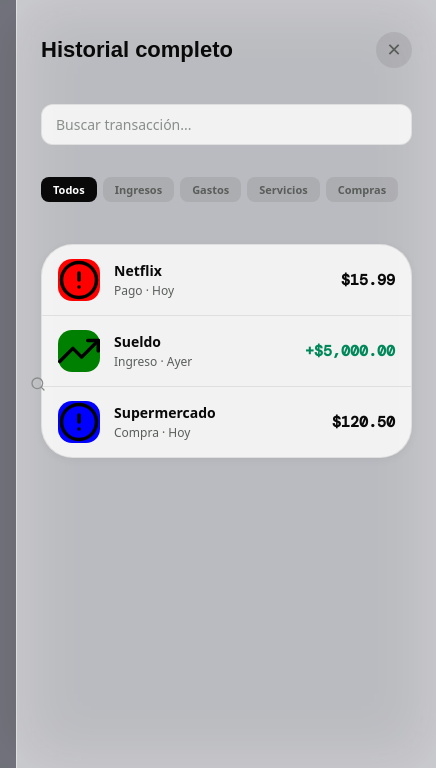
Test: ActivityPanel › filters activities by category
Click the button "Ingresos": click(138, 190) [103,177,174,202]
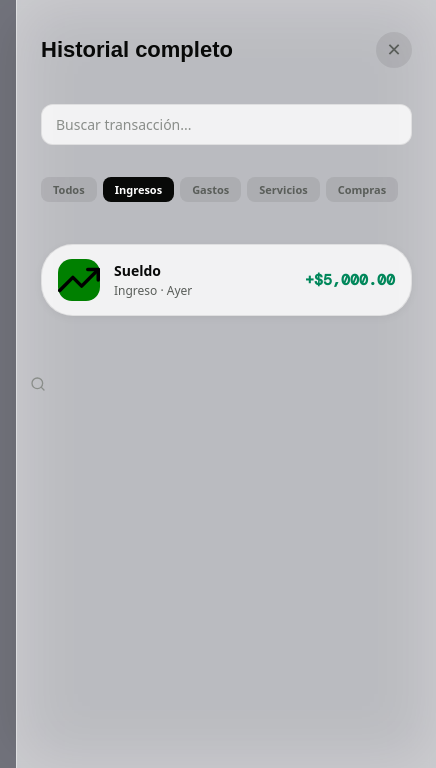
Check: the text "Sueldo" is shown, box [114,261,161,280]
Check: the text "Netflix" is gone
